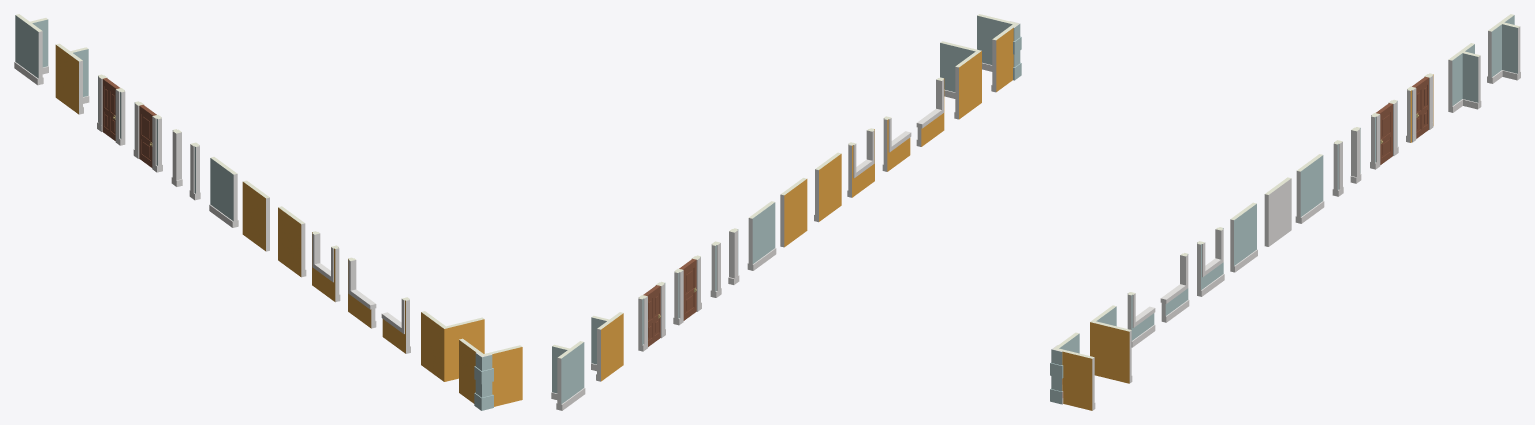
Rendered from Houseparts.fbx.
3 views of the same model, side by side, from view 1: azimuth 30°, elevation 25°; view 2: azimuth 150°, elevation 25°; view 3: azimuth 330°, elevation 25° (orthographic). The views are drawn at different scales.
Parts seen in each view (by area): view 1: 10.004, 10.001, 18.001, 17.001, 03.001, 02.004, 01.001, 04.003, 07.002, 05.004, 06.004, 08.006 (+3 smaller); view 2: 10.004, 10.001, 18.001, 17.001, 03.001, 01.001, 02.004, 04.003, 07.002, 06.004, 05.004, 09.006 (+3 smaller); view 3: 10.004, 10.001, 18.001, 17.001, 03.001, 01.001, 02.004, 04.003, 07.002, 05.004, 06.004, 08.006 (+3 smaller).
Boxes of the visible parts, <box> form: 10.004: <box>459,338,522,410</box>; 10.001: <box>421,311,484,381</box>; 18.001: <box>14,14,48,85</box>; 17.001: <box>55,43,89,114</box>; 03.001: <box>209,157,238,227</box>; 02.004: <box>278,206,306,277</box>; 01.001: <box>242,180,269,251</box>; 04.003: <box>312,231,340,302</box>; 07.002: <box>171,129,200,200</box>; 05.004: <box>348,257,376,328</box>; 06.004: <box>381,297,410,353</box>; 08.006: <box>133,101,162,172</box>; 10.004: <box>977,14,1021,92</box>; 10.001: <box>940,41,981,119</box>; 18.001: <box>551,341,585,410</box>; 17.001: <box>591,312,623,381</box>; 03.001: <box>747,201,776,270</box>; 01.001: <box>780,178,807,247</box>; 02.004: <box>814,152,841,222</box>; 04.003: <box>847,128,874,197</box>; 07.002: <box>710,228,739,297</box>; 06.004: <box>916,77,944,146</box>; 05.004: <box>882,116,911,171</box>; 09.006: <box>638,281,665,351</box>; 10.004: <box>1050,332,1095,410</box>; 10.001: <box>1090,305,1132,383</box>; 18.001: <box>1487,14,1520,83</box>; 17.001: <box>1448,43,1481,112</box>; 03.001: <box>1295,154,1324,223</box>; 01.001: <box>1264,177,1291,246</box>; 02.004: <box>1230,202,1257,272</box>; 04.003: <box>1197,227,1224,296</box>; 07.002: <box>1332,127,1361,196</box>; 05.004: <box>1160,253,1189,322</box>; 06.004: <box>1127,292,1155,347</box>; 08.006: <box>1370,99,1398,169</box>.
Size of the model in its own units: 209 by 251 by 4010.
1 material, 1 textured.
